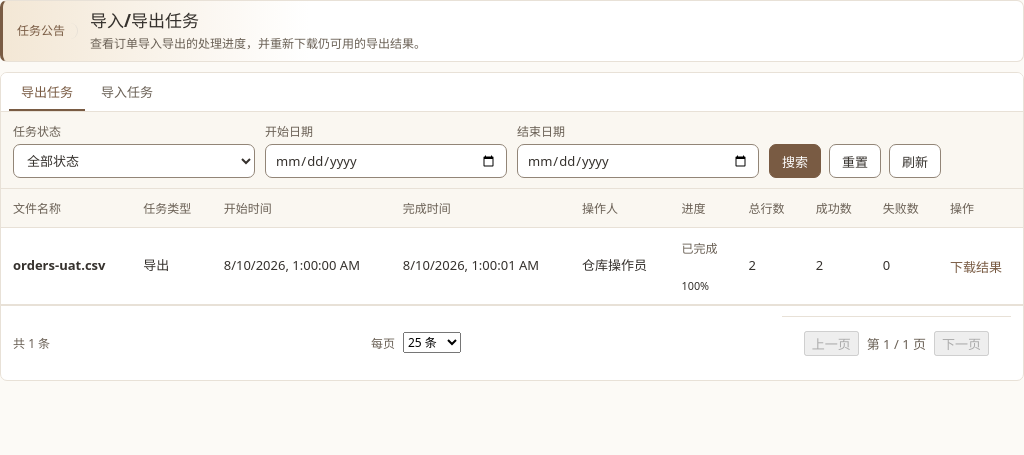
Test case: SettingsTransferTasksPage › loads a real export task and downloads its persisted result
The width and height of the screenshot is (1024, 455).
Check: the text "orders-uat.csv" is shown, box [13,256,105,274]
Click the button "下载结果". click: (976, 268)
box: [950,250,1002,286]
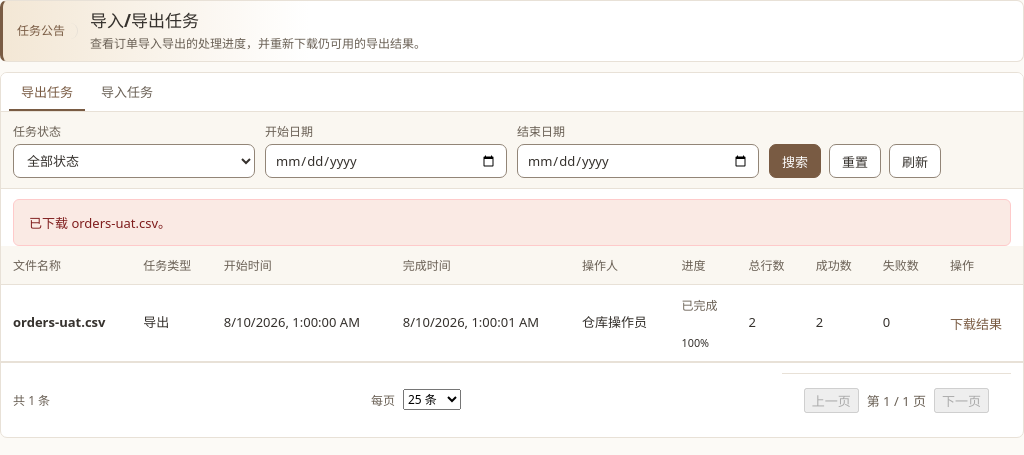
Check: the text "已下载 orders-uat.csv。" is shown, box [13,199,1011,246]
